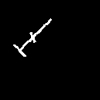double_crochet: (14, 19, 50, 55)
